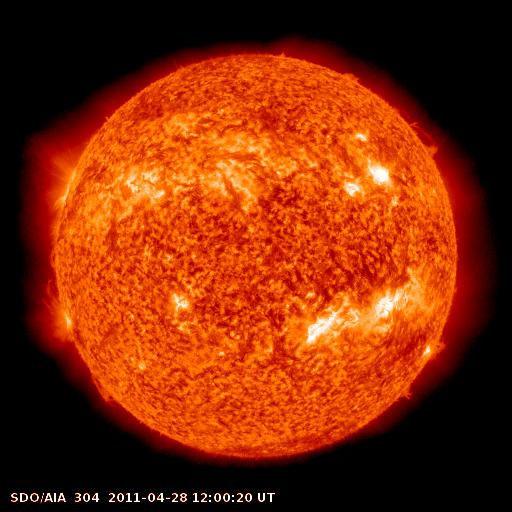prominence: (388, 102, 449, 165), (28, 238, 78, 305), (80, 366, 120, 412), (387, 378, 426, 410), (421, 330, 453, 362), (335, 60, 363, 88)
